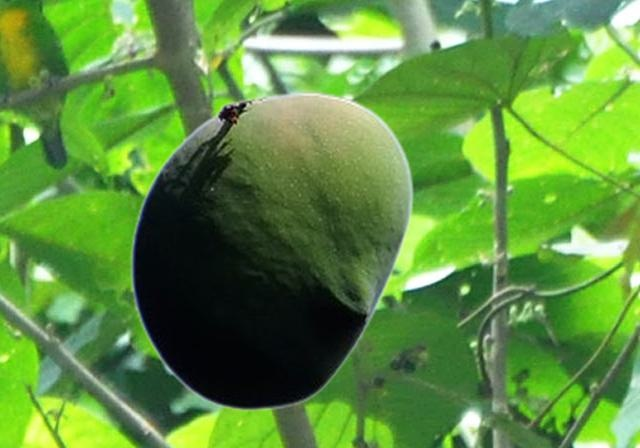green_mango: (129, 90, 414, 410)
